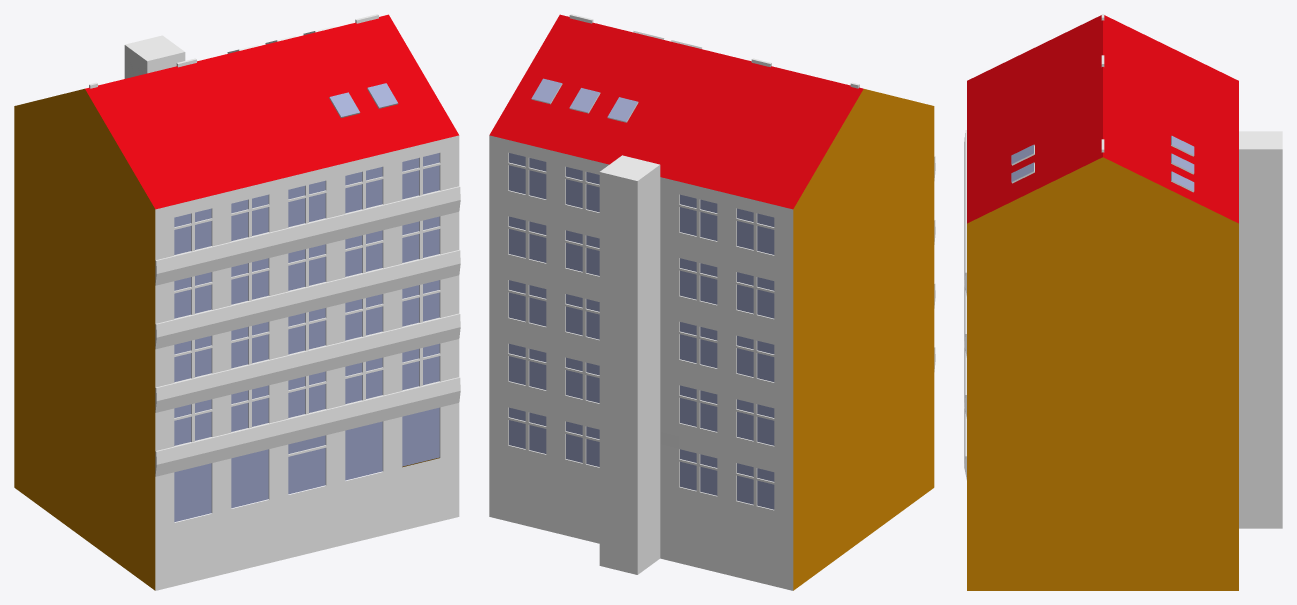
File: BuildingNormal.glb
3 renders of one model, left to right at view 1: azimuth 30°, elevation 25°; view 2: azimuth 150°, elevation 25°; view 3: azimuth 270°, elevation 25°, orthographic. The views are drawn at different scales.
Visible parts, largest first — view 1: Cube; view 2: Cube; view 3: Cube.
Boxes of the visible parts, x1,y1,x2,y2 form: Cube: (14,14,460,590); Cube: (489,14,935,590); Cube: (964,14,1282,590).
Bounding box in the file's own units: 20 × 28.5 × 18.83.
